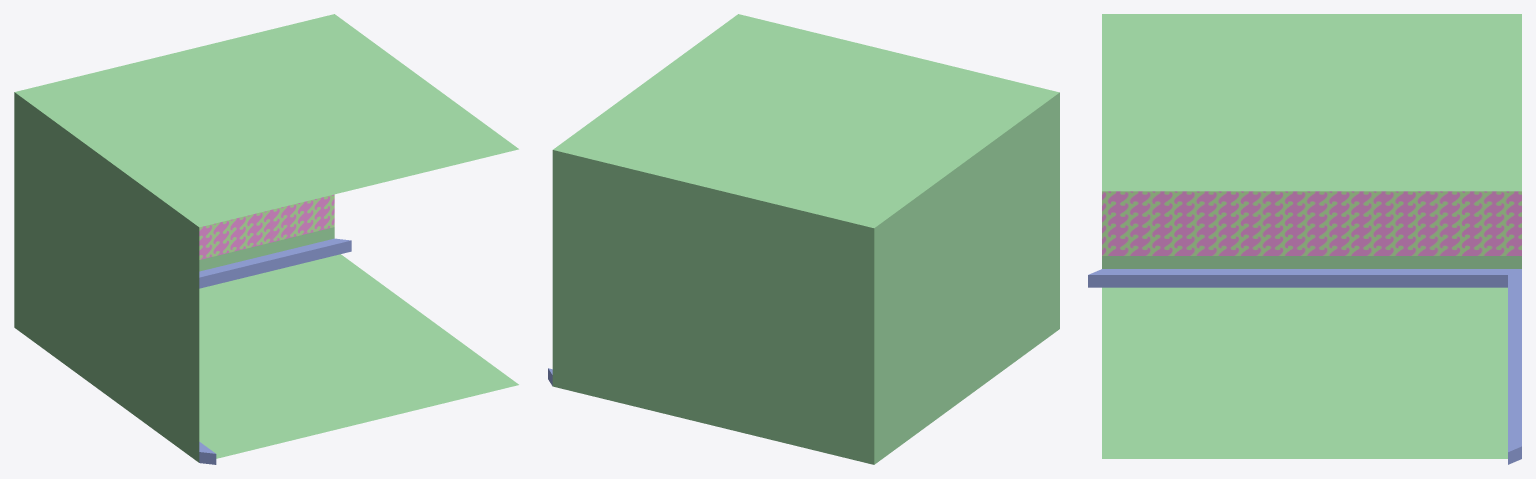
Rendered from studio.glb.
3 renders of one model, left to right at view 1: azimuth 30°, elevation 25°; view 2: azimuth 150°, elevation 25°; view 3: azimuth 270°, elevation 25°, orthographic. The views are drawn at different scales.
Visible parts, largest first — view 1: Cube, WallForTxt, WallForTxt.001; view 2: Cube; view 3: Cube, WallForTxt, WallForTxt.001.
Part boxes in pixels (x1=…): Cube: x1=14, y1=14, x2=518, y2=462; WallForTxt: x1=199, y1=194, x2=334, y2=259; WallForTxt.001: x1=199, y1=238, x2=351, y2=464; Cube: x1=552, y1=14, x2=1059, y2=464; Cube: x1=1102, y1=14, x2=1521, y2=458; WallForTxt: x1=1102, y1=191, x2=1521, y2=255; WallForTxt.001: x1=1088, y1=269, x2=1521, y2=464.
Size of the model in its own units: 5.46 by 3.72 by 5.46.
3 materials, 1 textured.
